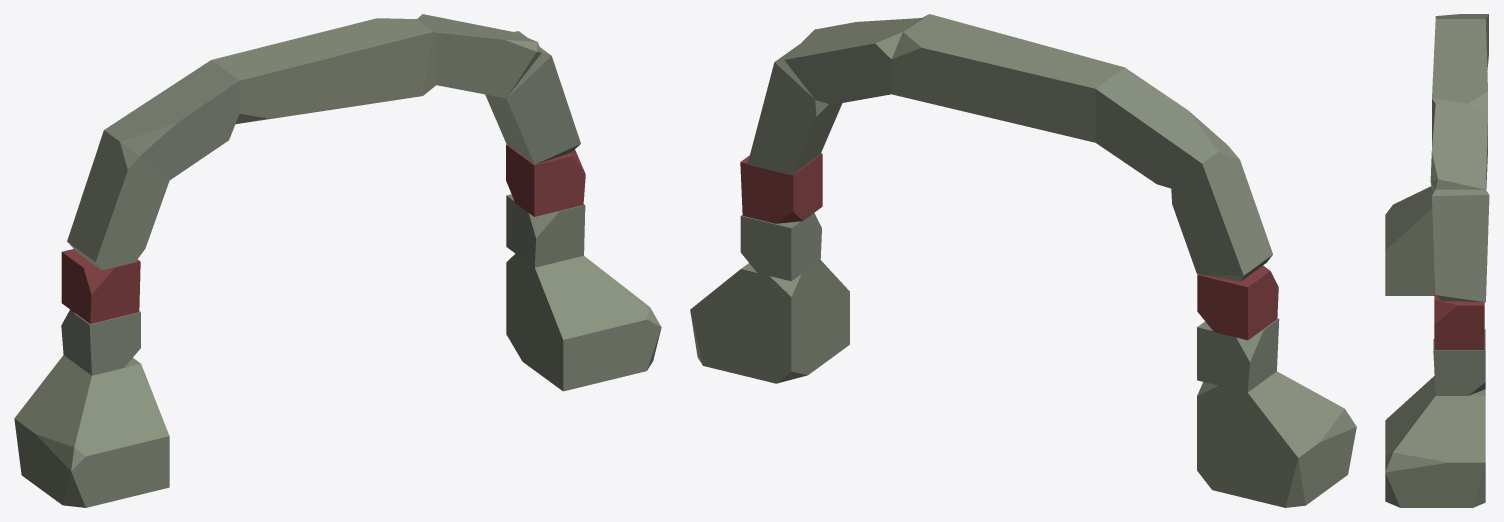
File: door_arch_double_short.fbx
3 renders of one model, left to right at view 1: azimuth 30°, elevation 25°; view 2: azimuth 150°, elevation 25°; view 3: azimuth 270°, elevation 25°, orthographic. The views are drawn at different scales.
Visible parts, largest first — view 1: door_arch_double_short; view 2: door_arch_double_short; view 3: door_arch_double_short.
Part boxes in pixels (box(x1,y1,x2,y2)): door_arch_double_short: box(14, 14, 661, 507); door_arch_double_short: box(690, 14, 1356, 507); door_arch_double_short: box(1385, 14, 1489, 507).
Size of the model in its own units: 300 by 177 by 51.86.
